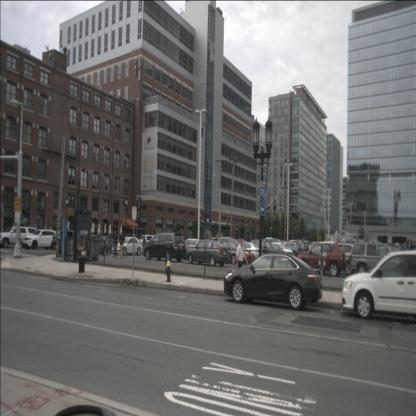human-pedestrian-adult: (236, 237, 248, 282), (110, 229, 120, 258), (118, 230, 126, 259), (404, 239, 411, 270), (142, 235, 146, 254)
vehicle-car: (224, 252, 322, 311), (341, 250, 416, 319), (349, 242, 406, 280), (298, 242, 346, 277), (315, 242, 357, 276), (185, 239, 229, 267), (144, 233, 186, 262), (0, 226, 38, 248), (212, 242, 246, 266), (221, 241, 255, 264), (177, 238, 208, 262), (23, 229, 57, 250), (230, 242, 264, 262), (80, 234, 108, 256), (249, 238, 277, 260), (111, 237, 143, 256), (267, 242, 294, 262), (136, 235, 159, 254), (279, 240, 301, 256), (287, 240, 307, 256), (102, 239, 121, 255), (264, 237, 281, 252)
